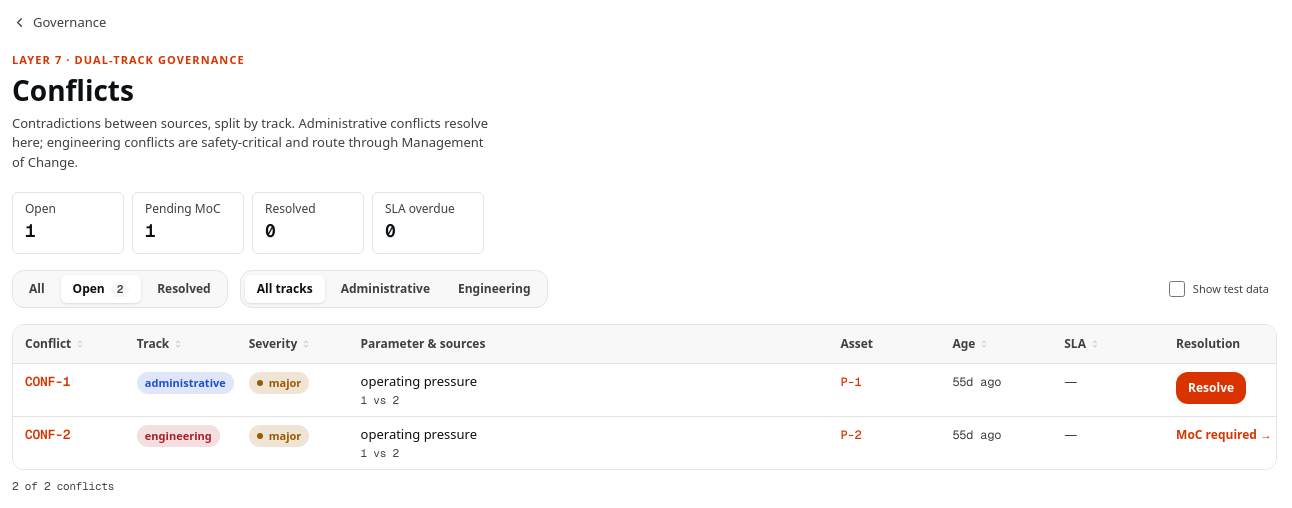
Test case: ConflictsPage › resolves an administrative conflict optimistically and hides engineering resolve
Expected: the text "CONF-1" is shown, [25,373,70,390]
Step 1. Click the button "Resolve" → point(1211, 388), box [1176,372,1246,404]
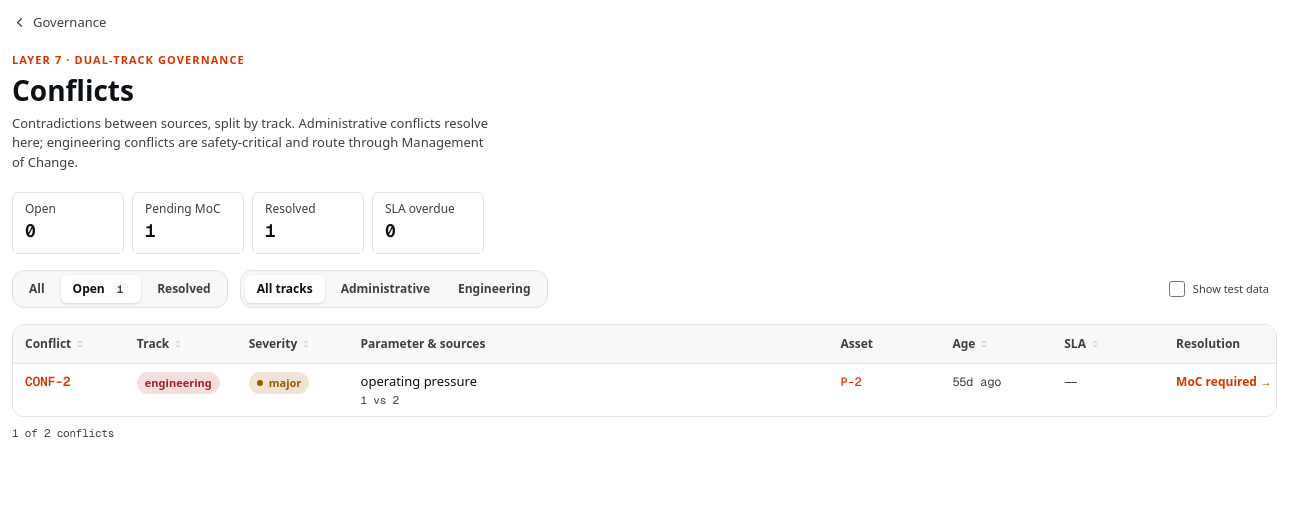
Expected: the text "CONF-1" is gone
